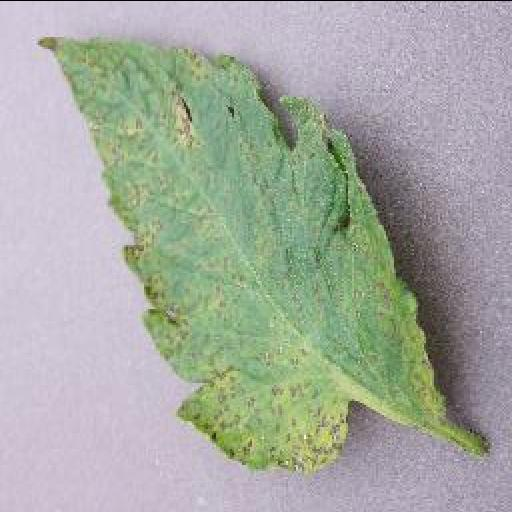disease_tomato: (38, 33, 450, 469)
